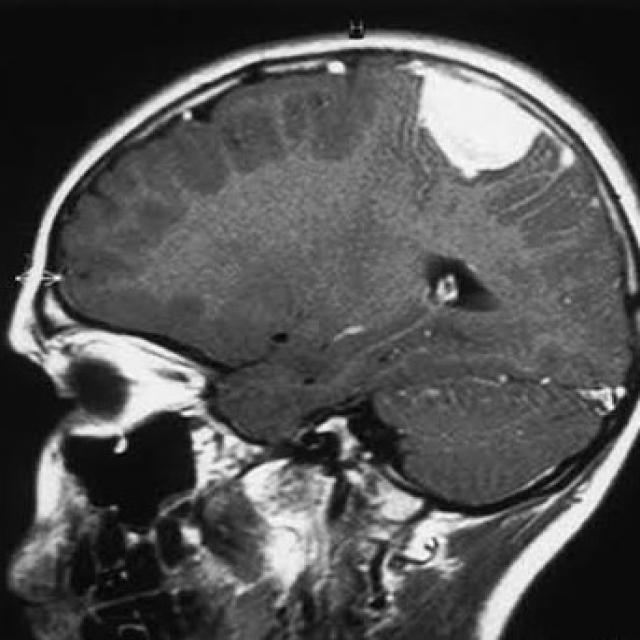brain_tumor: (402, 60, 546, 178)
